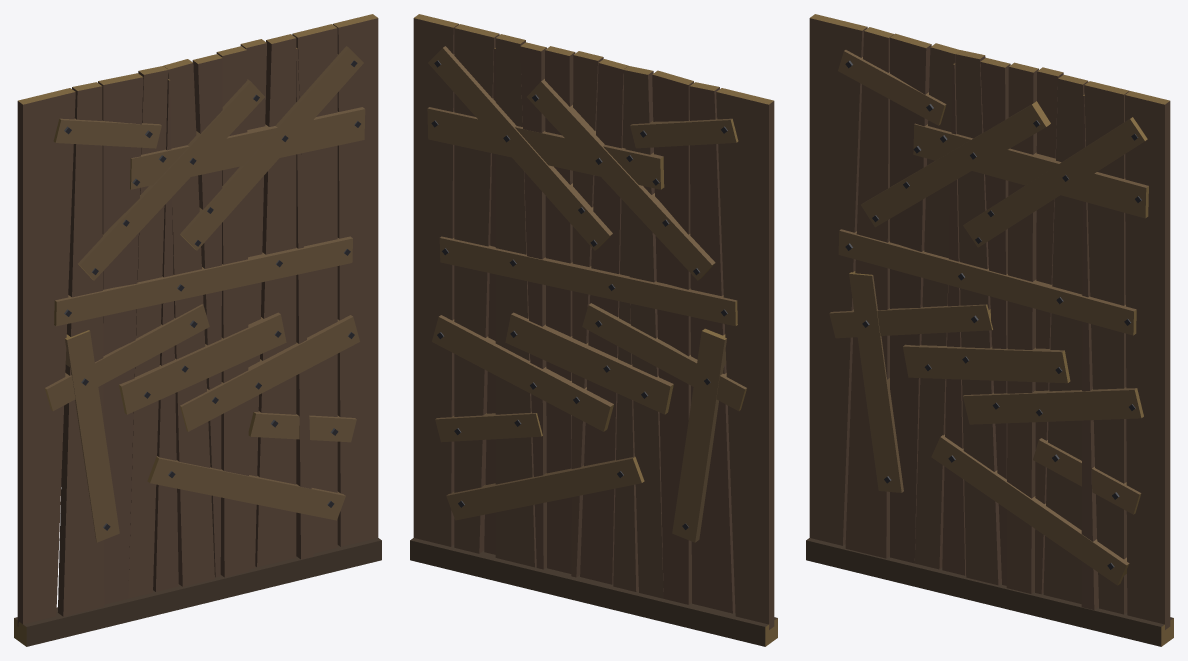
The model's file is Wall_1D_4mx6m.fbx.
3 views of the same model, side by side, from view 1: azimuth 30°, elevation 25°; view 2: azimuth 150°, elevation 25°; view 3: azimuth 330°, elevation 25° (orthographic).
Visible parts, largest first — view 1: pCube2412; view 2: pCube2412; view 3: pCube2412.
Boxes of the visible parts, bbox=[...] form: pCube2412: bbox=[14, 14, 381, 646]; pCube2412: bbox=[410, 14, 777, 646]; pCube2412: bbox=[806, 14, 1173, 646].
Size of the model in its own units: 400 by 581 by 24.46.
